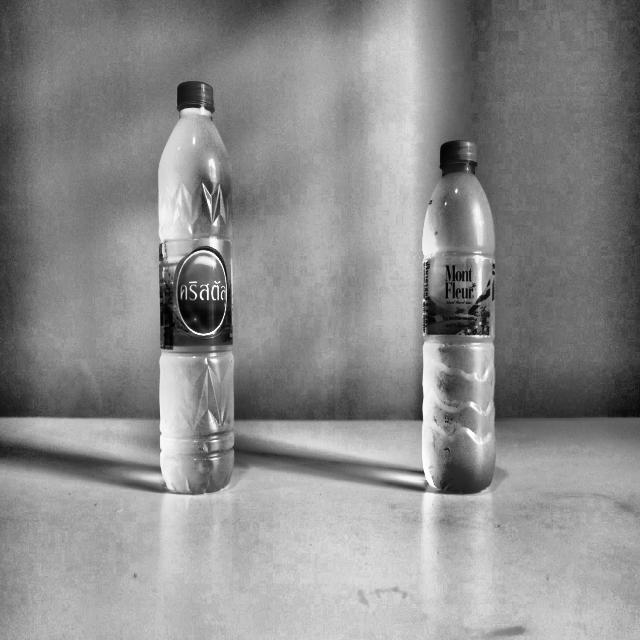waterbottle: (158, 81, 234, 494), (422, 140, 496, 493)
